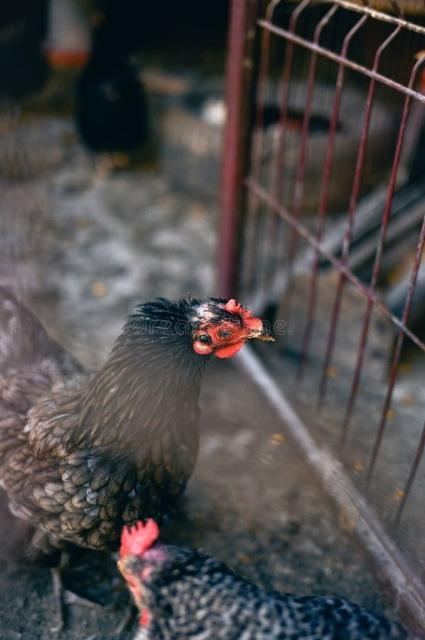Chicken: (0, 276, 278, 630), (116, 517, 425, 640)
